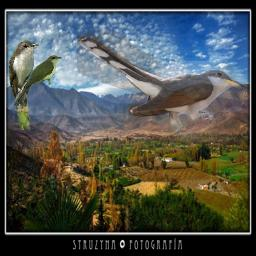Cuckoo: (77, 30, 247, 139), (9, 38, 39, 130), (13, 55, 63, 107)
